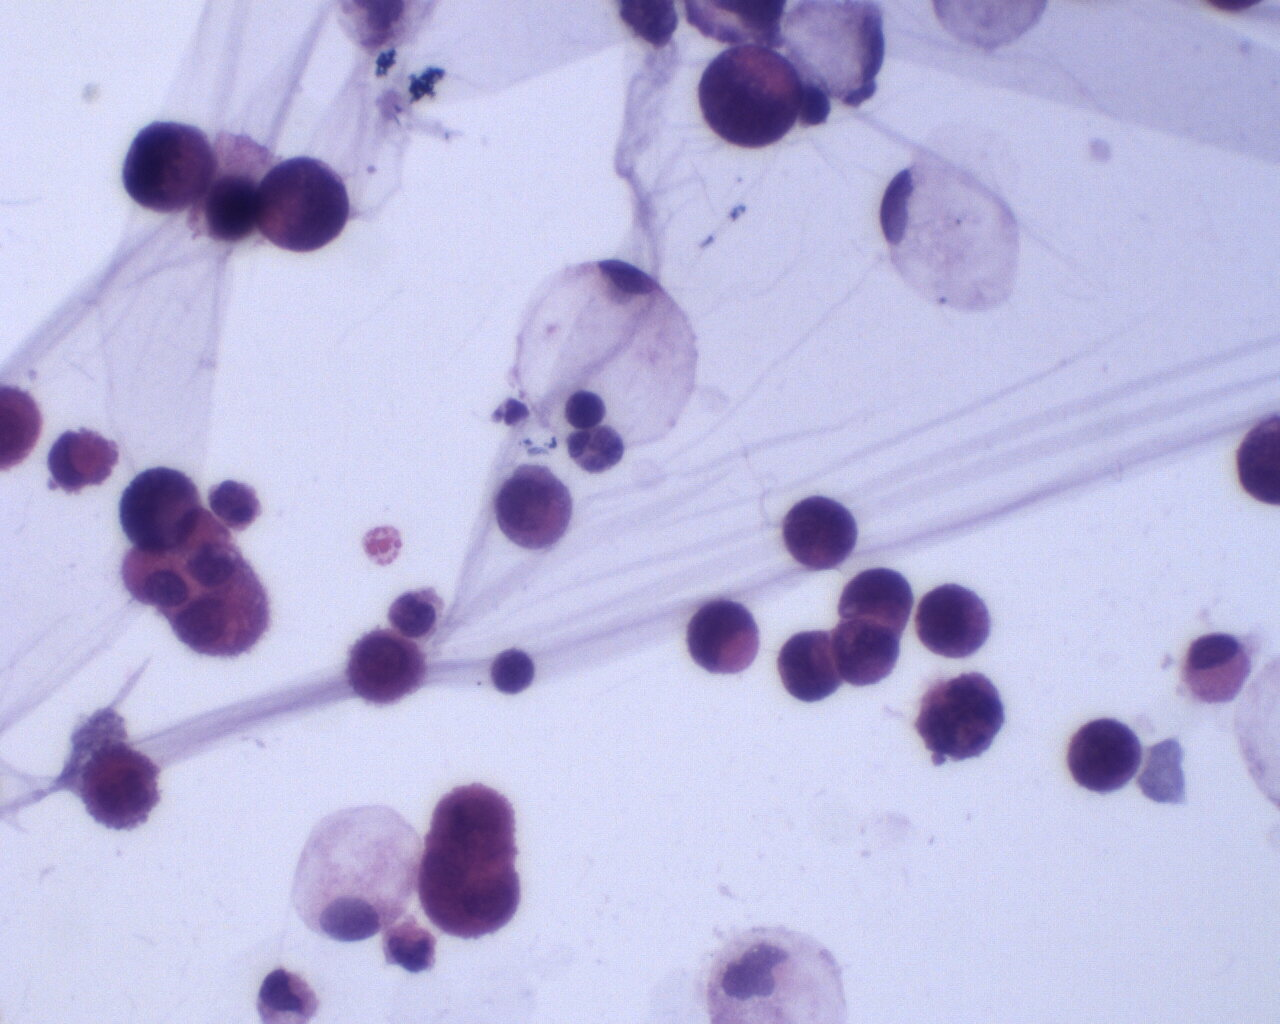ab: (872, 154, 1024, 320), (699, 43, 805, 154), (255, 154, 351, 255), (118, 119, 214, 217), (116, 459, 202, 557), (79, 743, 163, 834), (781, 494, 860, 576), (1067, 713, 1144, 795), (915, 582, 993, 661), (684, 598, 760, 674), (836, 564, 915, 631), (833, 618, 904, 690), (778, 631, 843, 705)
histo: (515, 256, 704, 448), (289, 799, 428, 942)
lymph: (487, 645, 537, 696)
meso: (495, 463, 575, 553), (345, 631, 429, 711), (1184, 629, 1254, 705)
